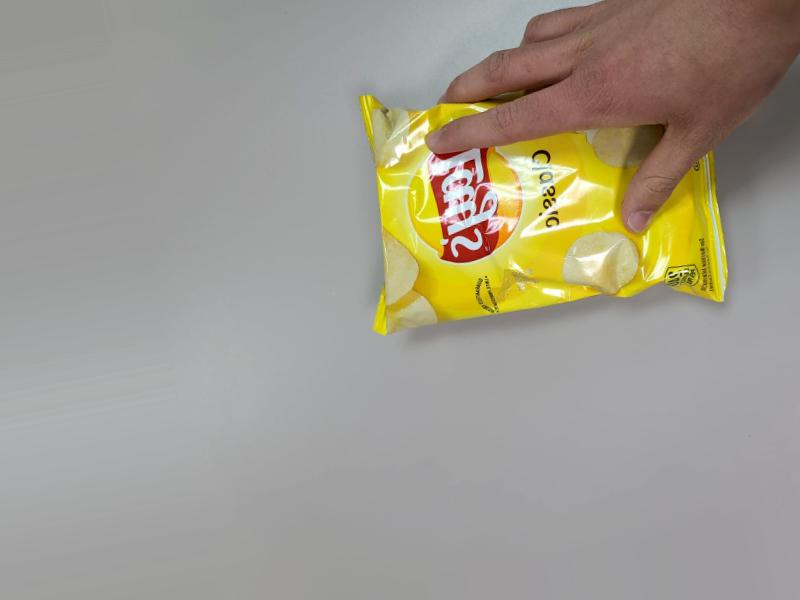lays: (374, 90, 724, 334)
